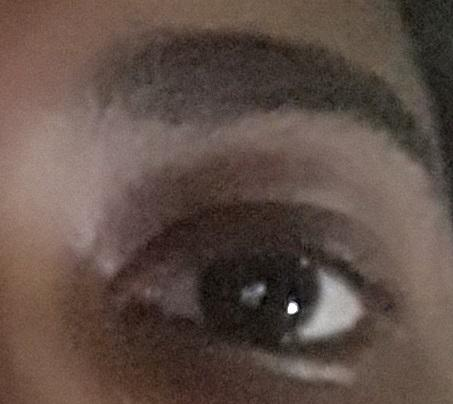open: (85, 150, 445, 404)
